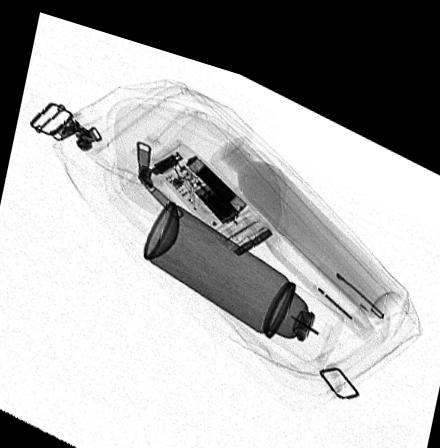Sprayer: (142, 190, 344, 348)
